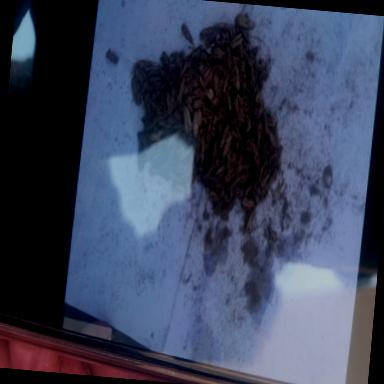pbw: (232, 94, 247, 130), (128, 76, 144, 107), (220, 193, 239, 219), (220, 129, 234, 161), (204, 87, 222, 111), (180, 104, 194, 134), (234, 13, 256, 32), (263, 124, 279, 150), (134, 142, 146, 176), (190, 108, 202, 141), (180, 22, 196, 46), (248, 52, 266, 73), (165, 107, 180, 132), (223, 42, 235, 72), (218, 122, 230, 152), (203, 118, 213, 153), (178, 57, 192, 81), (246, 59, 257, 89), (235, 42, 250, 64), (134, 132, 152, 150), (254, 117, 264, 149), (229, 32, 243, 54), (184, 78, 198, 100), (225, 174, 242, 192), (198, 24, 216, 41), (177, 76, 187, 106), (240, 194, 258, 210), (263, 174, 275, 198), (210, 46, 228, 62), (198, 133, 207, 165), (206, 156, 219, 178), (232, 68, 243, 94), (104, 48, 120, 65), (148, 127, 164, 144), (258, 158, 268, 184), (213, 160, 226, 180), (216, 20, 232, 36), (211, 70, 220, 98), (170, 84, 178, 114), (242, 178, 254, 198), (163, 90, 172, 116), (234, 126, 245, 147), (246, 207, 256, 230), (158, 51, 170, 70), (142, 92, 152, 114), (221, 72, 230, 96), (203, 184, 218, 198), (191, 98, 205, 112), (191, 46, 203, 62), (136, 59, 152, 70), (150, 72, 164, 84), (201, 66, 212, 81), (253, 182, 263, 198), (211, 115, 218, 136), (226, 94, 234, 112), (198, 74, 206, 91), (197, 64, 205, 76), (201, 52, 209, 63)
